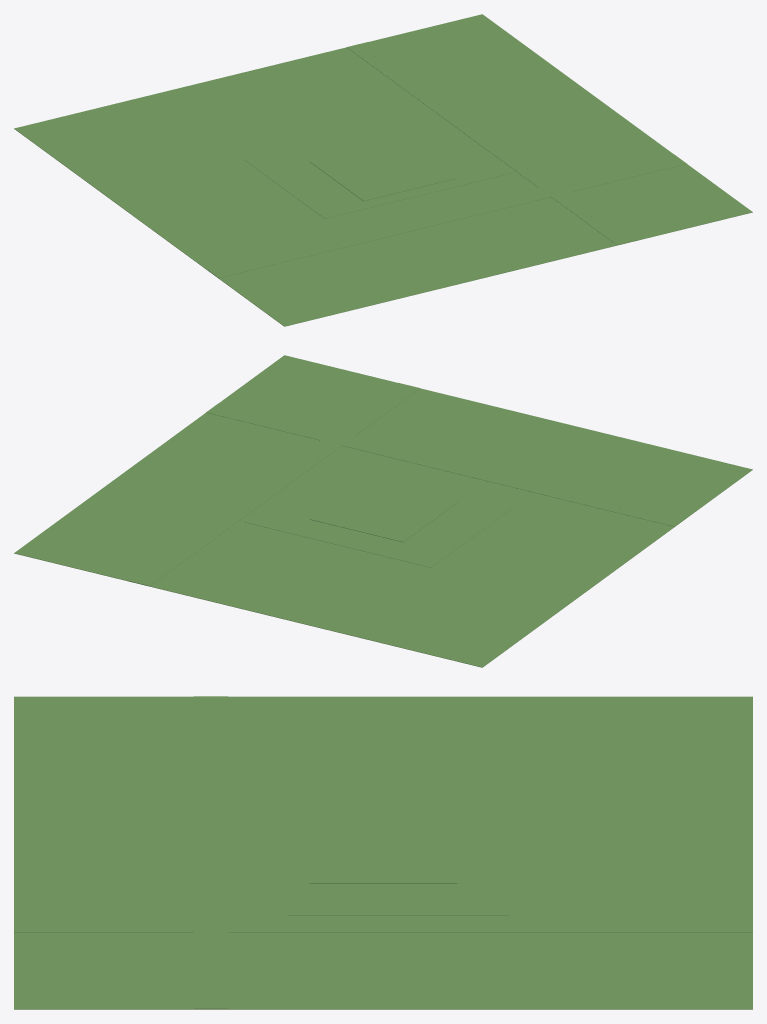
File: city_ground.glb
3 renders of one model, top to bottom at view 1: azimuth 30°, elevation 25°; view 2: azimuth 150°, elevation 25°; view 3: azimuth 270°, elevation 25°, orthographic. The views are drawn at different scales.
Visible parts, largest first — view 1: city_ground; view 2: city_ground; view 3: city_ground.
Part boxes in pixels (box(x1,y1,x2,y2)): city_ground: box(14, 14, 752, 326); city_ground: box(14, 355, 752, 667); city_ground: box(14, 696, 752, 1009).
Bounding box in the file's own units: 300 × 0.5 × 300.
